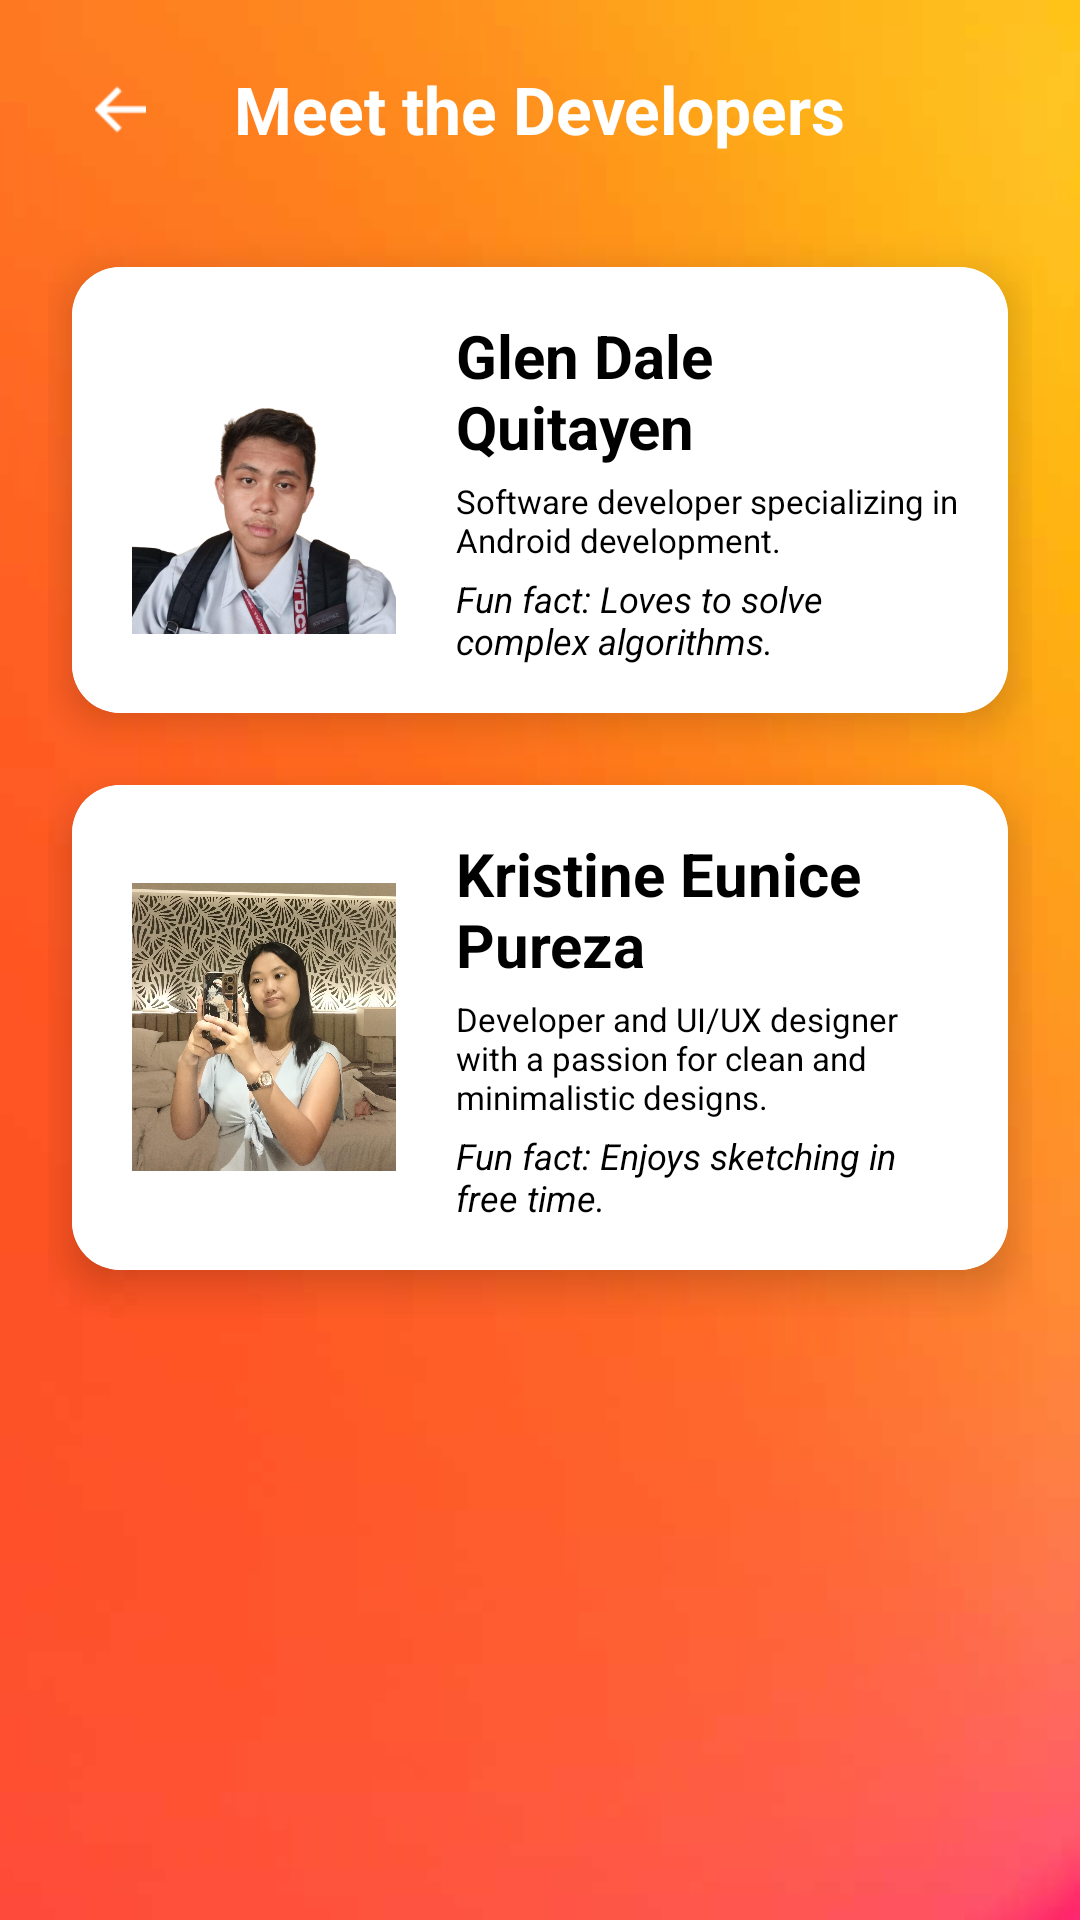

Icon bounding boxes for this 1080px x 1920px phone screenshot, format (x1, y1, x2, y2):
Back button: (95, 86, 146, 133)
member: (132, 408, 396, 634), (132, 883, 396, 1171)
